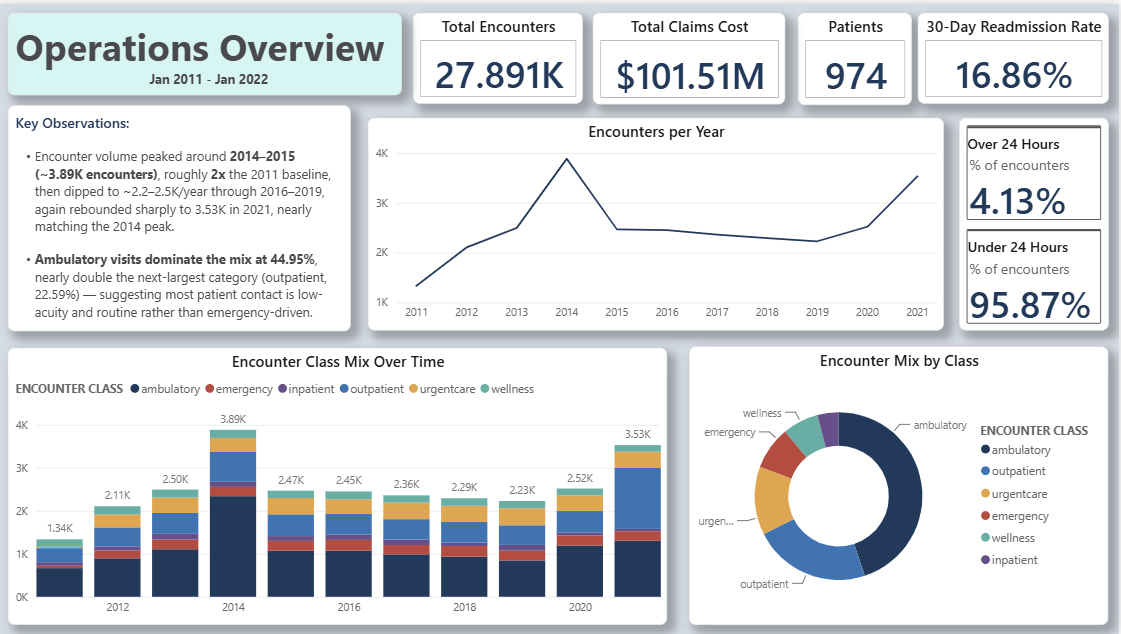

The page's visual inventory and layout, read from the dashboard file:
{"tool":"powerbi","page":{"name":"Operations","canvas":[1280,720],"ordinal":0},"visuals":[{"type":"cardVisual","title":"Total Encounters","fields":{"Data":["Count(encounters.Id)"]},"box":[473.3,9.3,194.7,104],"z":0},{"type":"cardVisual","title":"Patients","fields":{"Data":["Count(patients.Id)"]},"box":[912.4,9.4,130.7,105.3],"z":1000},{"type":"cardVisual","title":"Total Claims Cost","fields":{"Data":["Sum(encounters.TOTAL_CLAIM_COST)"]},"box":[678.3,10,220,105],"z":2000},{"type":"cardVisual","title":"30-Day Readmission Rate","fields":{"Data":["encounters.Clinical Readmission Rate"]},"box":[1050.7,9.3,218.7,104],"z":3000},{"type":"lineChart","title":"Encounters per Year","fields":{"Category":["encounters.START.Variation.Date Hierarchy.Year"],"Y":["CountNonNull(encounters.Id)"]},"box":[420.8,130.6,658.3,243.3],"z":4000},{"type":"donutChart","title":"Encounter Mix by Class","fields":{"Category":["encounters.ENCOUNTERCLASS"],"Y":["CountNonNull(encounters.Id)"]},"box":[788.9,391.7,479.2,318.1],"z":5000},{"type":"columnChart","title":"Encounter Class Mix Over Time","fields":{"Category":["encounters.START.Variation.Date Hierarchy.Year"],"Series":["encounters.ENCOUNTERCLASS"],"Y":["CountNonNull(encounters.Id)"]},"box":[10.3,392.2,753.5,316.5],"z":6000},{"type":"textbox","box":[9.7,9.7,450,94.4],"z":7000},{"type":"cardVisual","fields":{"Data":["CountNonNull(encounters.Id)"],"Rows":["encounters.Duration Bucket"]},"box":[1097.2,130.6,170.8,243.1],"z":8000},{"type":"textbox","box":[9.7,115.3,391.7,258.3],"z":9000}]}

Visuals, with their boxes in screenshot pixels (x1, y1, x2, y2), scaled from the page's 1280x720 canvas onto the 1121x634 screenshot:
"Total Encounters" cardVisual: left=415, top=8, right=585, bottom=100
"Patients" cardVisual: left=799, top=8, right=914, bottom=101
"Total Claims Cost" cardVisual: left=594, top=9, right=787, bottom=101
"30-Day Readmission Rate" cardVisual: left=920, top=8, right=1112, bottom=100
"Encounters per Year" lineChart: left=369, top=115, right=945, bottom=329
"Encounter Mix by Class" donutChart: left=691, top=345, right=1111, bottom=625
"Encounter Class Mix Over Time" columnChart: left=9, top=345, right=669, bottom=624
textbox: left=8, top=9, right=403, bottom=92
cardVisual - CountNonNull(encounters.Id) x encounters.Duration Bucket: left=961, top=115, right=1110, bottom=329
textbox: left=8, top=102, right=352, bottom=329
